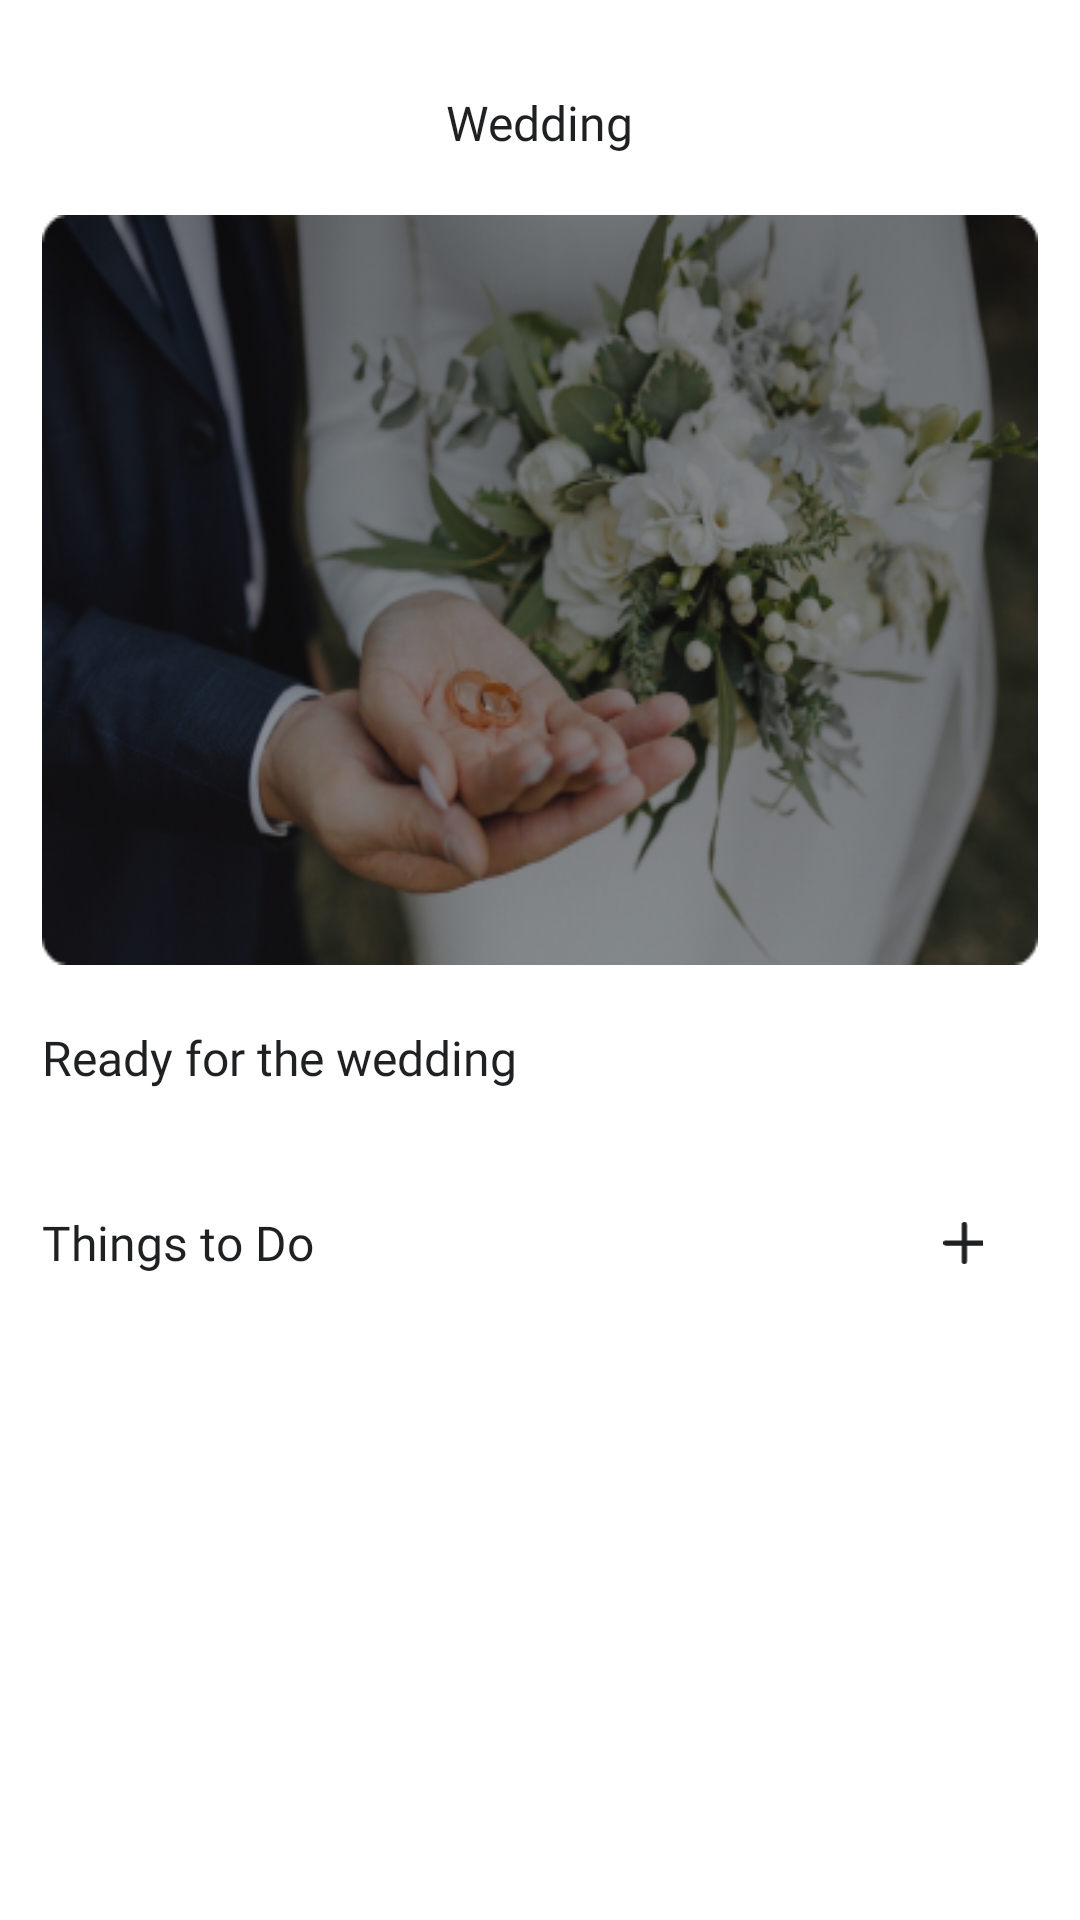

Icons on this 1080 × 1920 Android screen, each with its box as (x1, y1, x2, y2):
add: (943, 1222, 983, 1264)
